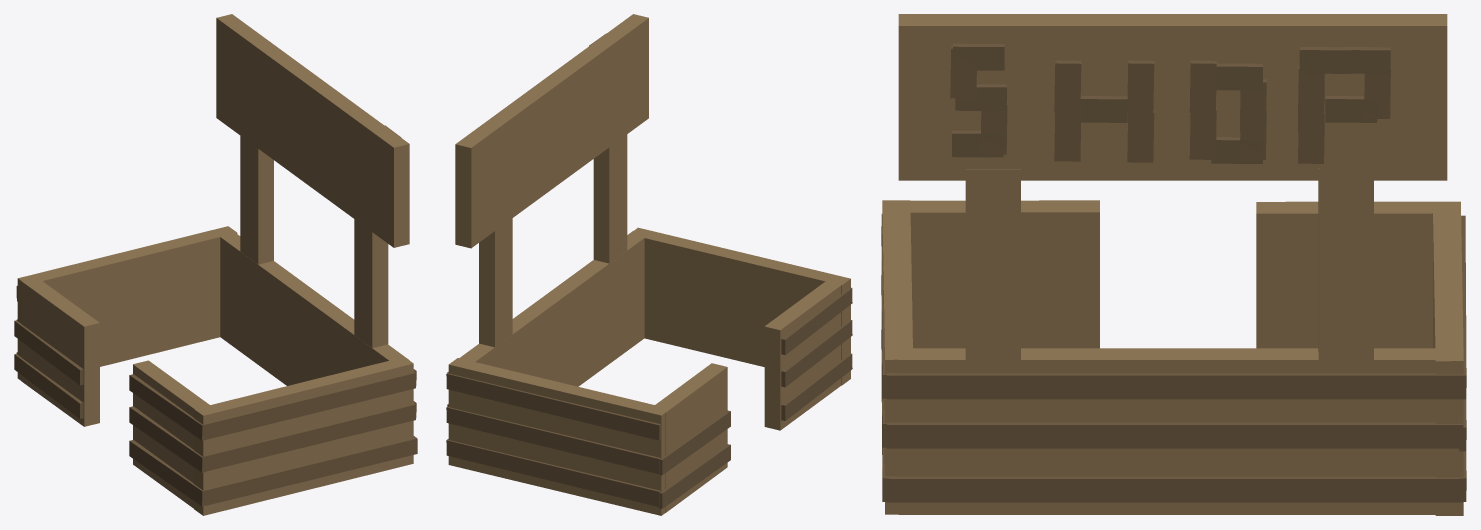
File: Shop.fbx
3 views of the same model, side by side, from view 1: azimuth 30°, elevation 25°; view 2: azimuth 150°, elevation 25°; view 3: azimuth 270°, elevation 25° (orthographic). The views are drawn at different scales.
Visible parts, largest first — view 1: Cube.007, Cube.001, Cube.002, Cube, Cube.003, Cube.005, Cube.004, Cube.006, Cube.014, Cube.016, Cube.015, Cube.019 (+4 smaller); view 2: Cube.007, Cube.002, Cube, Cube.001, Cube.004, Cube.003, Cube.005, Cube.006, Cube.012, Cube.011, Cube.013, Cube.017 (+4 smaller); view 3: Cube.007, Cube, Cube.004, Cube.003, Cube.008, Cube.010, Cube.009, Cube.006, Cube.005, Cube.001, Cube.002, Cube.028 (+21 smaller).
Boxes of the visible parts, box(x1,y1,x2,y2) form: Cube.007: box(216, 14, 409, 247); Cube.001: box(17, 226, 237, 380); Cube.002: box(194, 360, 413, 515); Cube: box(216, 230, 409, 385); Cube.003: box(21, 281, 99, 426); Cube.005: box(354, 219, 388, 347); Cube.004: box(133, 360, 209, 508); Cube.006: box(240, 136, 273, 264); Cube.014: box(205, 437, 417, 505); Cube.016: box(204, 372, 415, 440); Cube.015: box(204, 403, 415, 471); Cube.019: box(129, 440, 205, 506); Cube.007: box(455, 14, 648, 248); Cube.002: box(634, 227, 850, 385); Cube: box(456, 231, 648, 386); Cube.001: box(448, 358, 669, 515); Cube.004: box(764, 281, 841, 430); Cube.003: box(655, 363, 727, 512); Cube.005: box(593, 134, 627, 263); Cube.006: box(479, 218, 512, 347); Cube.012: box(446, 373, 660, 440); Cube.011: box(446, 406, 660, 474); Cube.013: box(446, 439, 660, 506); Cube.017: box(781, 287, 852, 355); Cube.007: box(898, 14, 1447, 180); Cube: box(898, 348, 1447, 514); Cube.004: box(910, 200, 1099, 348); Cube.003: box(1256, 201, 1432, 348); Cube.008: box(887, 373, 1463, 399); Cube.010: box(887, 476, 1463, 502); Cube.009: box(887, 422, 1463, 448); Cube.006: box(1318, 168, 1373, 402); Cube.005: box(965, 169, 1020, 401); Cube.001: box(1432, 201, 1463, 515); Cube.002: box(882, 200, 912, 514); Cube.028: box(1054, 60, 1081, 113).
Bounding box in the file's own units: 643 × 861 × 934.
